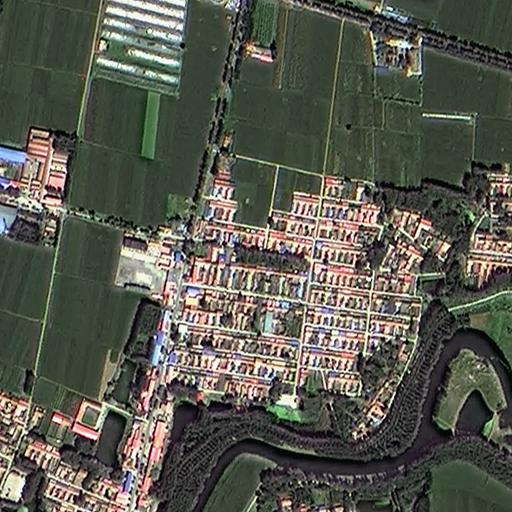school: (113, 231, 173, 302)
